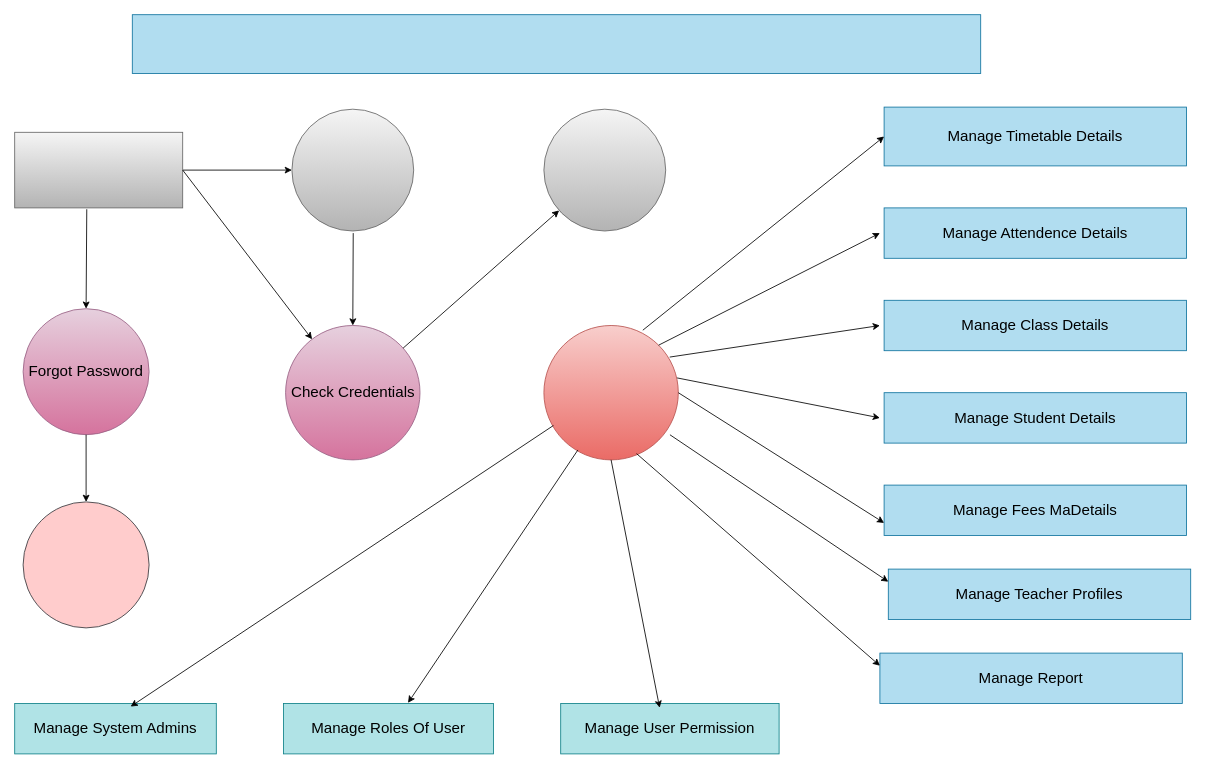
This 1205x769 diagram has some shape labels left out. Here are the shapes that lost their labels. From the top down, the centre of each, then its label:
pixel 556 44: Student Information System
pixel 98 169: Admin
pixel 352 169: Login to System
pixel 604 169: Check Roles of Access
pixel 610 392: Manage Modules
pixel 85 564: Send Email to User
